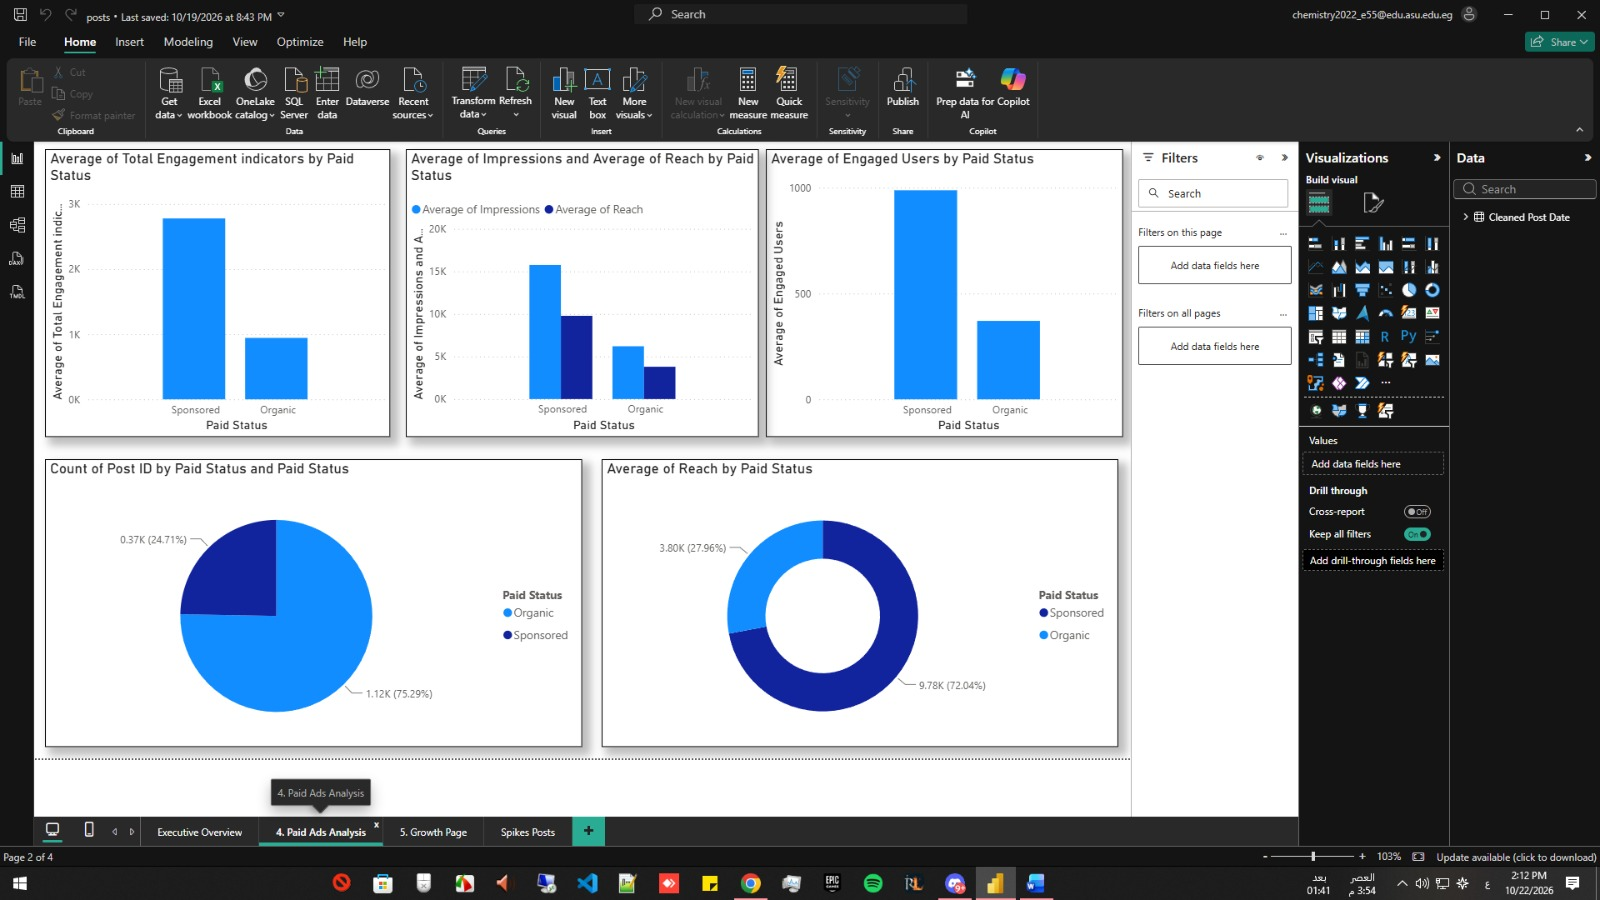

Layout of this report page (visuals, bound fields, positions):
{"tool":"powerbi","page":{"name":"4. Paid Ads Analysis","canvas":[1280,720],"ordinal":1},"visuals":[{"type":"clusteredColumnChart","fields":{"Category":["Cleaned Post Date.Paid Status"],"Y":["Avg(Cleaned Post Date.Engaged Users)"]},"box":[854,9,417,336],"z":0},{"type":"clusteredColumnChart","fields":{"Category":["Cleaned Post Date.Paid Status"],"Y":["Avg(Cleaned Post Date.Impressions)","Avg(Cleaned Post Date.Reach)"]},"box":[434,9,412,336],"z":1000},{"type":"clusteredColumnChart","fields":{"Category":["Cleaned Post Date.Paid Status"],"Y":["Avg(Cleaned Post Date.Total Engagement indicators)"]},"box":[13,9,403,336],"z":2000},{"type":"pieChart","fields":{"Category":["Cleaned Post Date.Paid Status"],"Series":["Cleaned Post Date.Paid Status"],"Y":["CountNonNull(Cleaned Post Date.Post ID)"]},"box":[13,371,627,336],"z":3000},{"type":"donutChart","fields":{"Category":["Cleaned Post Date.Paid Status"],"Y":["Avg(Cleaned Post Date.Reach)"]},"box":[662,371,603,336],"z":4000}]}

Visuals, with their boxes on the page's 1280x720 design canvas (x1, y1, x2, y2). These are canvas units, not pixel positions in the 1600x900 screenshot, which may show the page scaled, cropped or inside an application window:
clusteredColumnChart - Cleaned Post Date.Paid Status x Avg(Cleaned Post Date.Engaged Users): select_region(854, 9, 1271, 345)
clusteredColumnChart - Cleaned Post Date.Paid Status x Avg(Cleaned Post Date.Impressions): select_region(434, 9, 846, 345)
clusteredColumnChart - Cleaned Post Date.Paid Status x Avg(Cleaned Post Date.Total Engagement indicators): select_region(13, 9, 416, 345)
pieChart - Cleaned Post Date.Paid Status x Cleaned Post Date.Paid Status: select_region(13, 371, 640, 707)
donutChart - Cleaned Post Date.Paid Status x Avg(Cleaned Post Date.Reach): select_region(662, 371, 1265, 707)
